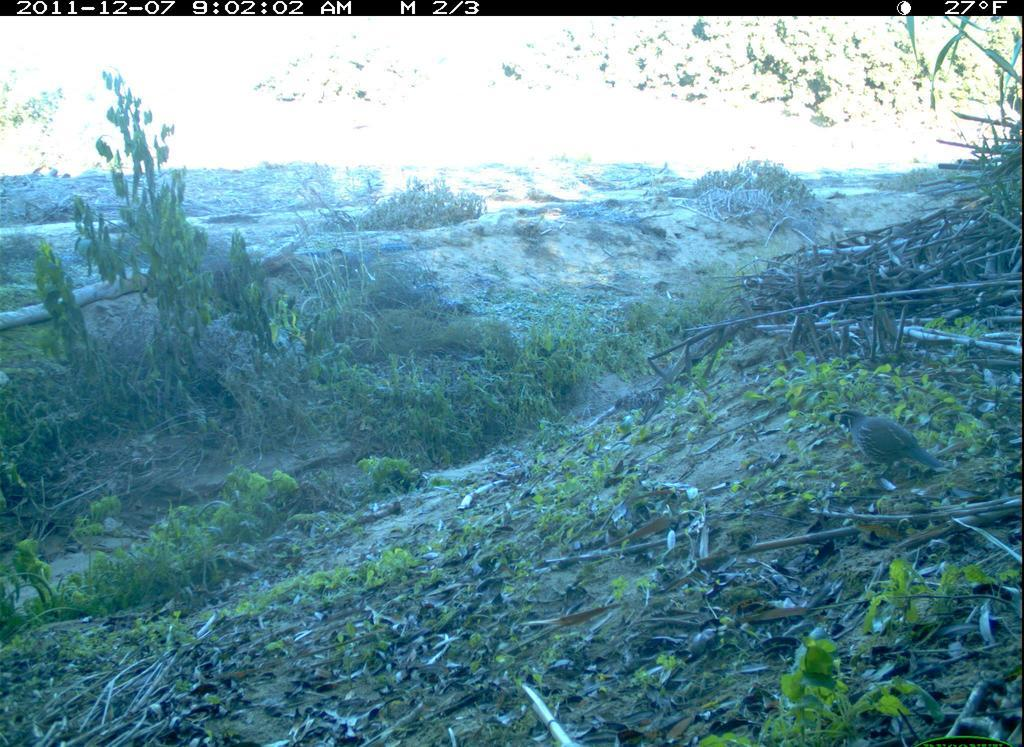bird: (826, 400, 945, 493)
